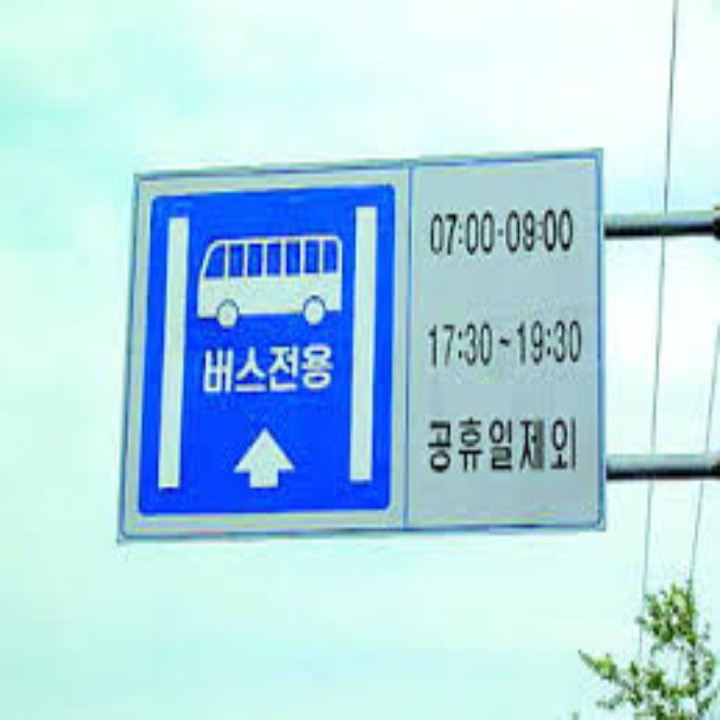bus: (196, 213, 346, 328)
